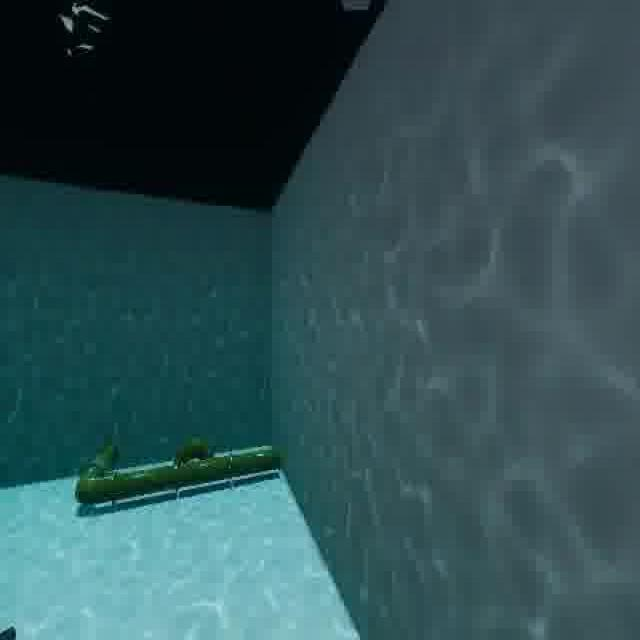Pipe: (74, 435, 286, 512)
